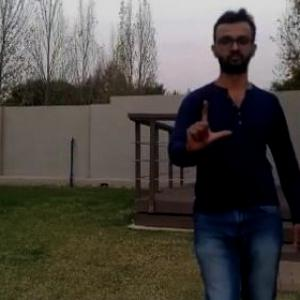land_hand: (176, 94, 229, 158)
